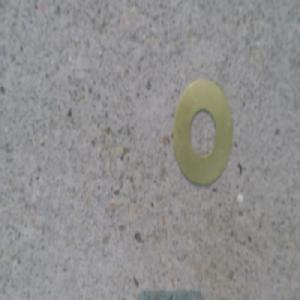Washer: (171, 77, 232, 189)
